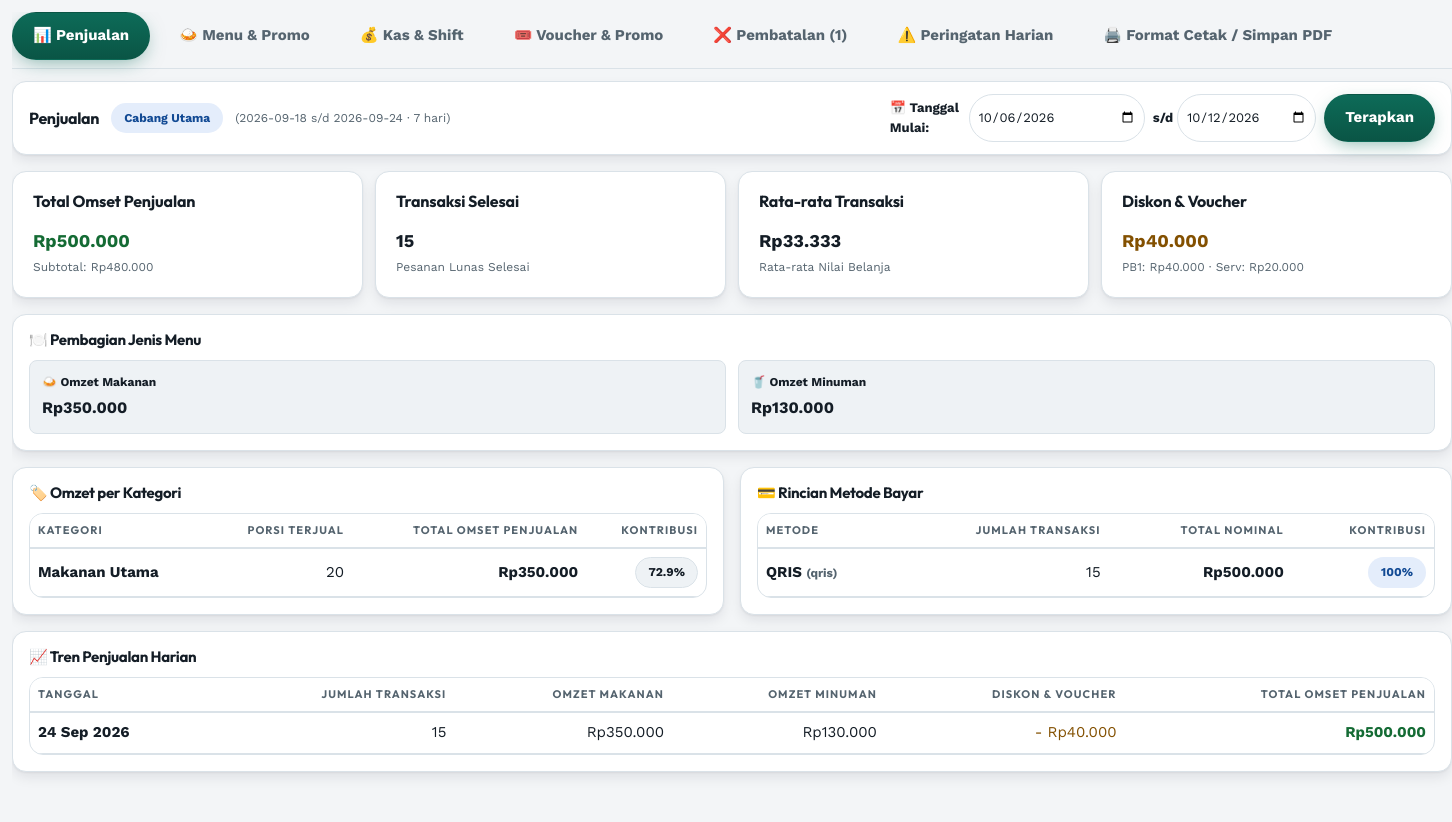
Test: LayarLaporan › dapat berpindah ke tab Kas dan menampilkan laporan kas harian
Click the button "💰 Kas & Shift": coordinates (412, 36) [339,12,485,60]
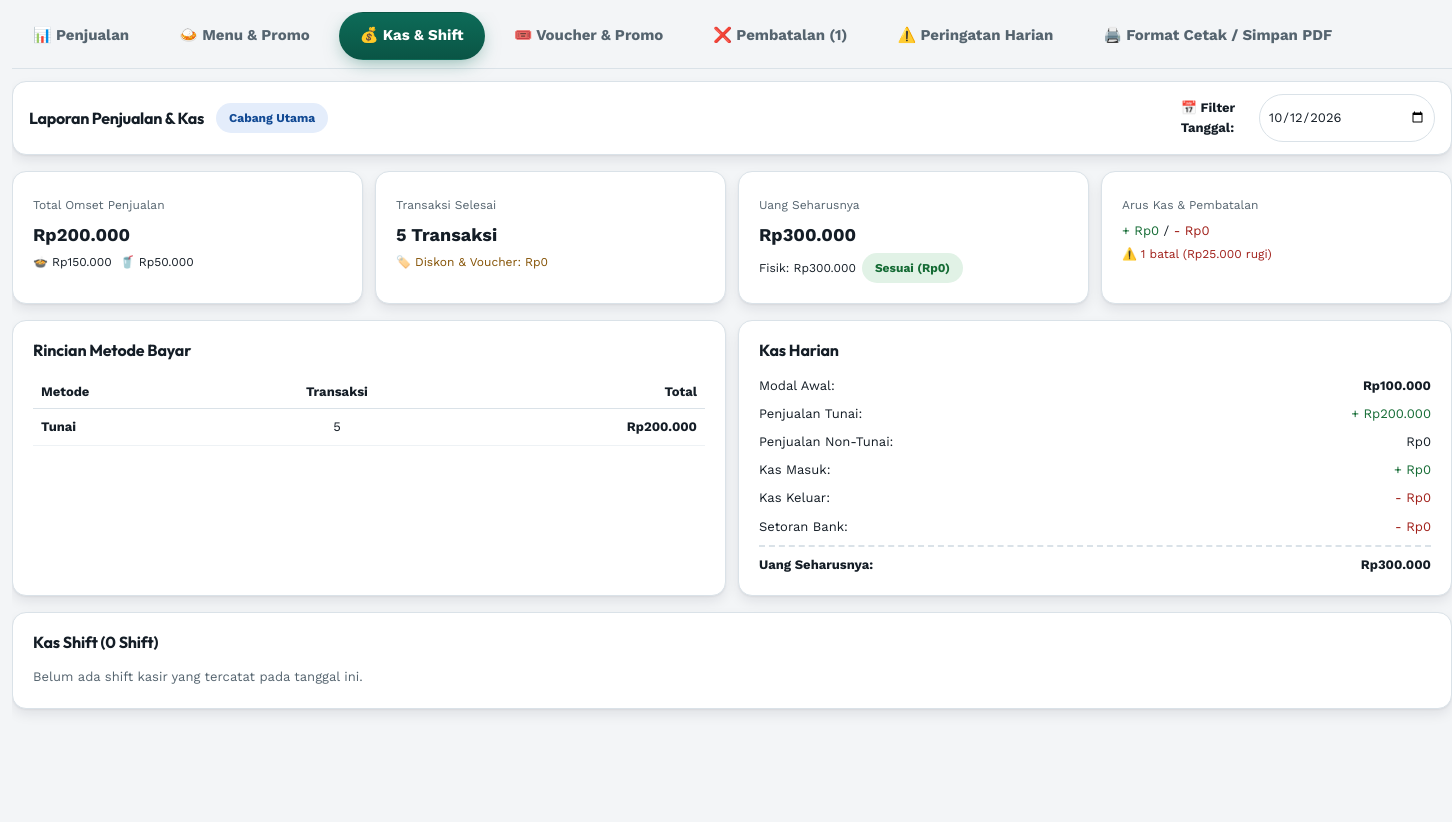
Check: the heading "Laporan Penjualan & Kas" is shown, box [29,109,204,127]
